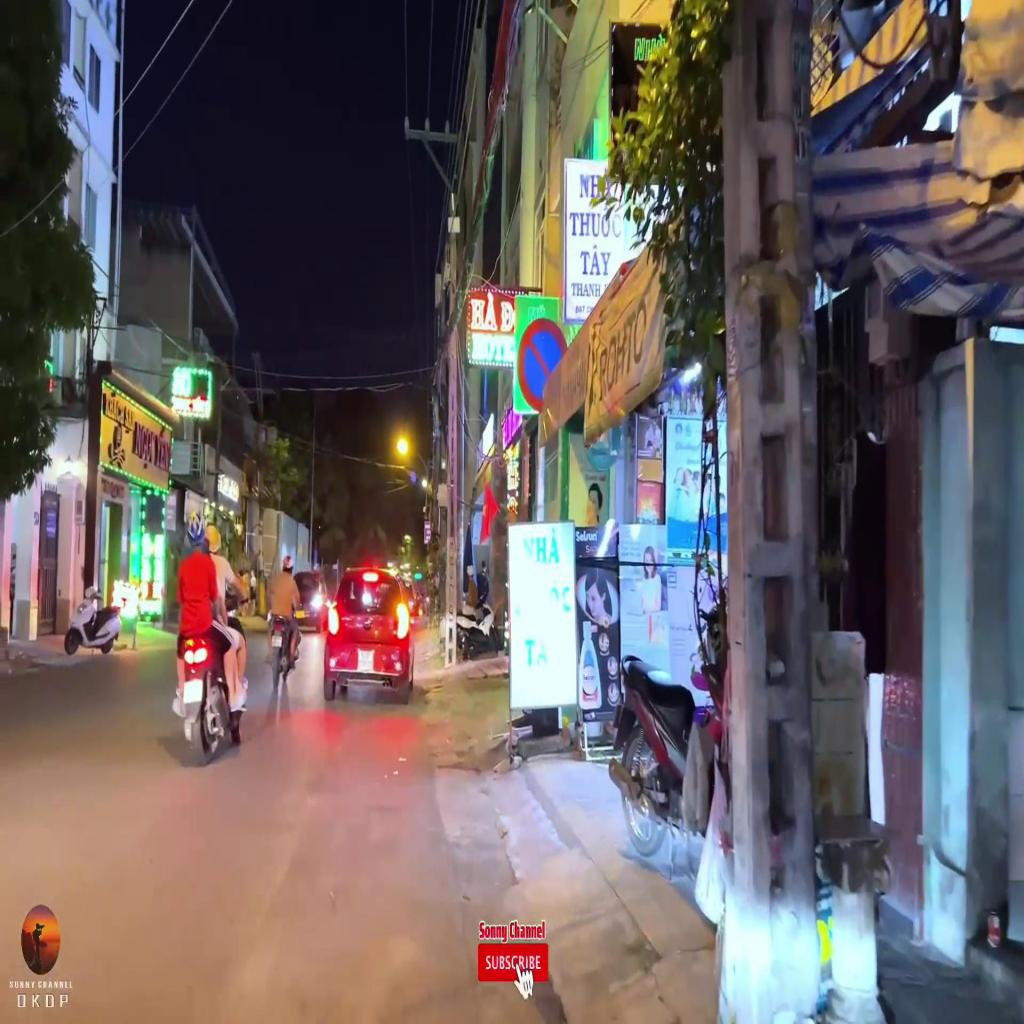cam_do_xe: (517, 318, 567, 412)
